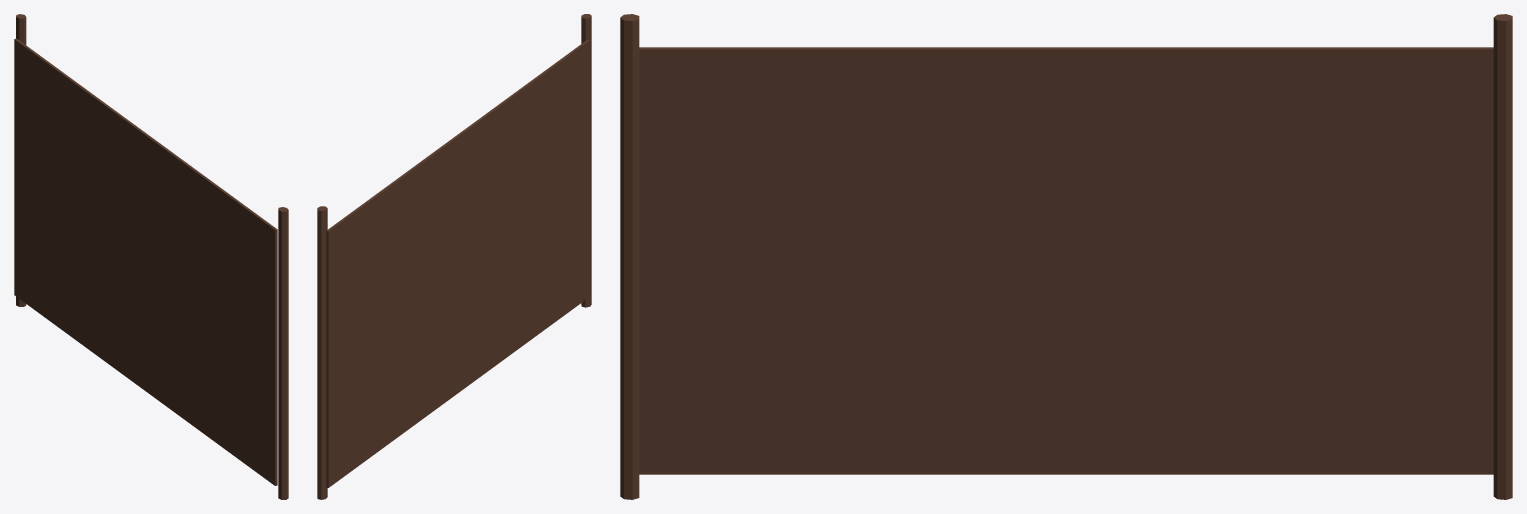
Rendered from rusted-fence.fbx.
3 renders of one model, left to right at view 1: azimuth 30°, elevation 25°; view 2: azimuth 150°, elevation 25°; view 3: azimuth 270°, elevation 25°, orthographic. The views are drawn at different scales.
Visible parts, largest first — view 1: Cylinder.001; view 2: Cylinder.001; view 3: Cylinder.001.
Boxes of the visible parts, box(x1,y1,x2,y2) form: Cylinder.001: box(14, 14, 288, 499); Cylinder.001: box(317, 14, 591, 499); Cylinder.001: box(620, 14, 1512, 499).
Size of the model in its own units: 13.9 by 593 by 351.
